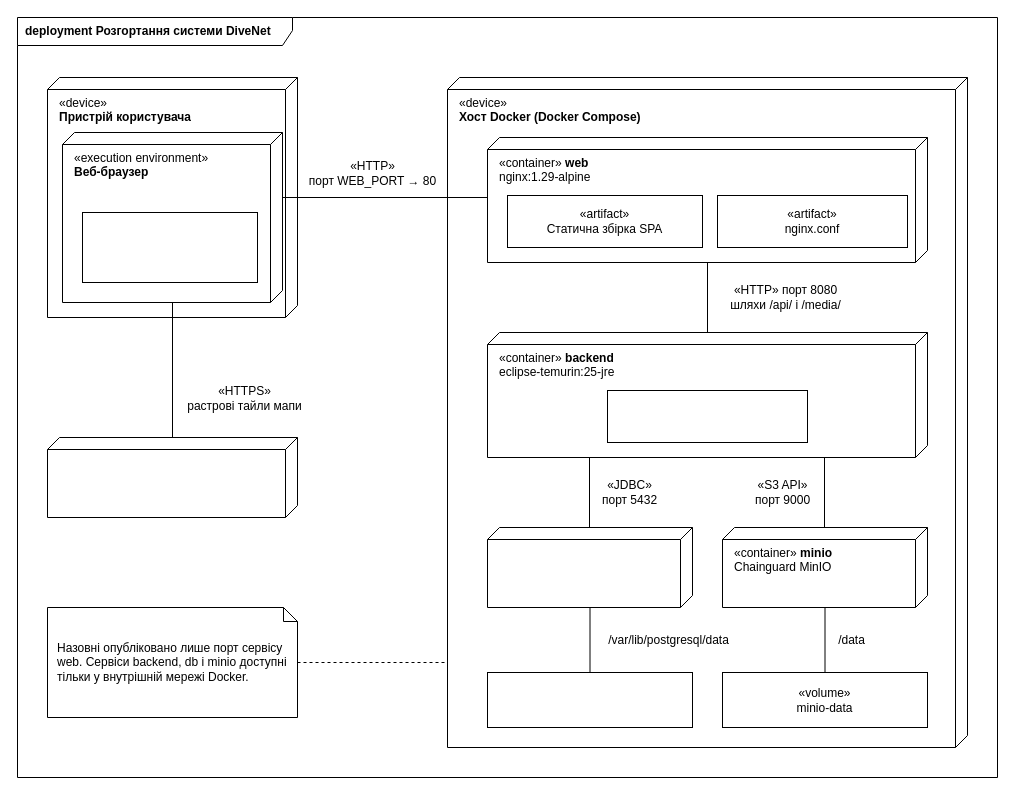
Some shapes in this 1015 by 795 pixel diagram are drawn without their labels. The centre of each missing label's shape, as x and y in pixels:
"«artifact» app.jar (Spring Boot)" belongs at (707,416).
"«artifact» Застосунок SPA (React, JavaScript)" belongs at (170,247).
"«container» db postgis/postgis:17-3.5" belongs at (589,567).
"«device» Сервер OpenStreetMap" belongs at (172,477).
"«volume» db-data" belongs at (589,700).
